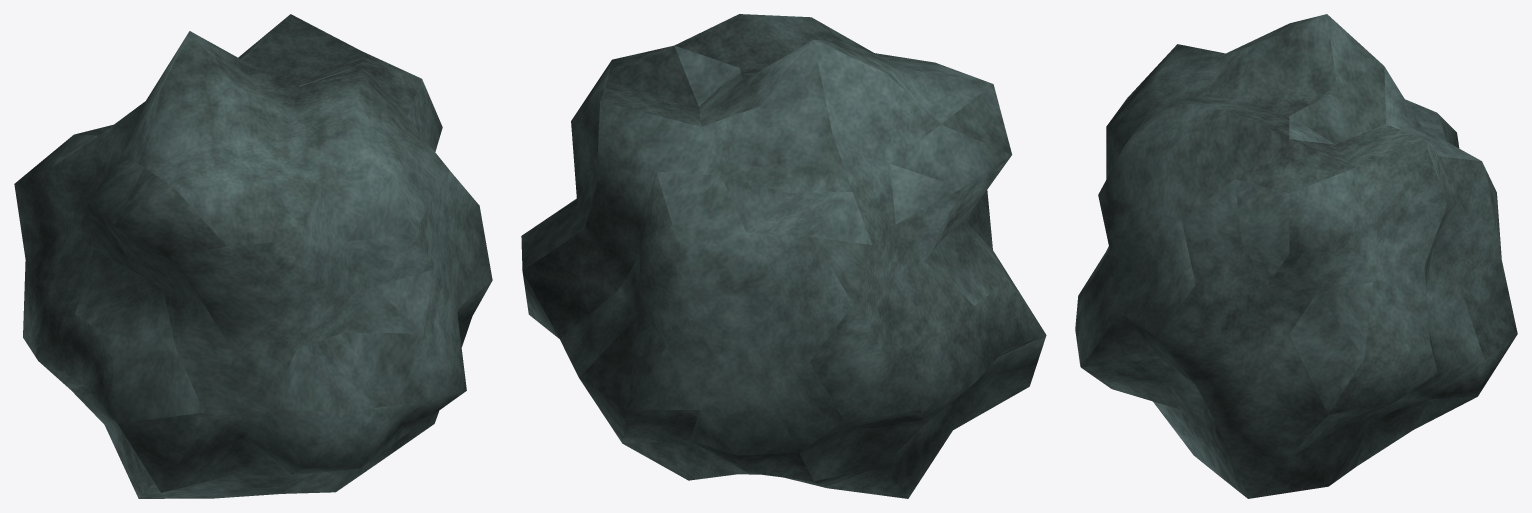
Rendered from rock_0.glb.
3 views of the same model, side by side, from view 1: azimuth 30°, elevation 25°; view 2: azimuth 150°, elevation 25°; view 3: azimuth 270°, elevation 25° (orthographic). The views are drawn at different scales.
Visible parts, largest first — view 1: rock_0_Rock; view 2: rock_0_Rock; view 3: rock_0_Rock.
Boxes of the visible parts, <box> form: rock_0_Rock: <box>14,14,492,498</box>; rock_0_Rock: <box>521,14,1046,498</box>; rock_0_Rock: <box>1075,14,1517,498</box>.
Bounding box in the file's own units: 2.12 × 2.14 × 2.08.
Materials: 1 (1 with a texture image).
